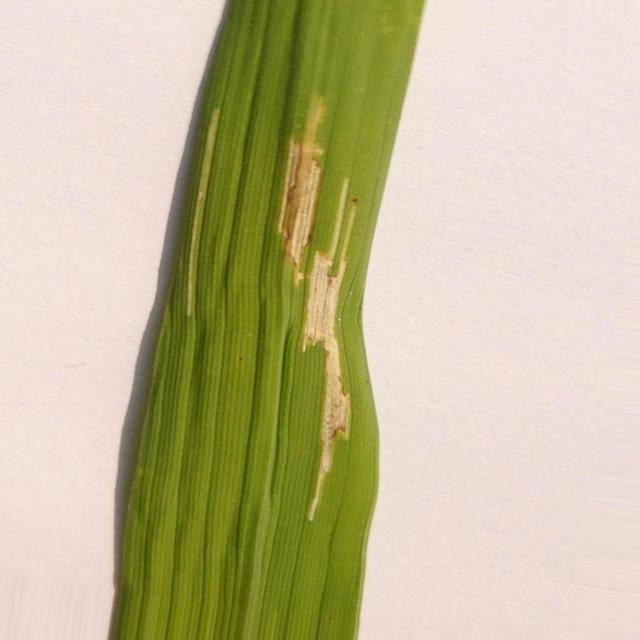Bacterial_Leaf_Blight: (302, 200, 356, 518), (278, 96, 324, 283), (185, 108, 221, 316)
